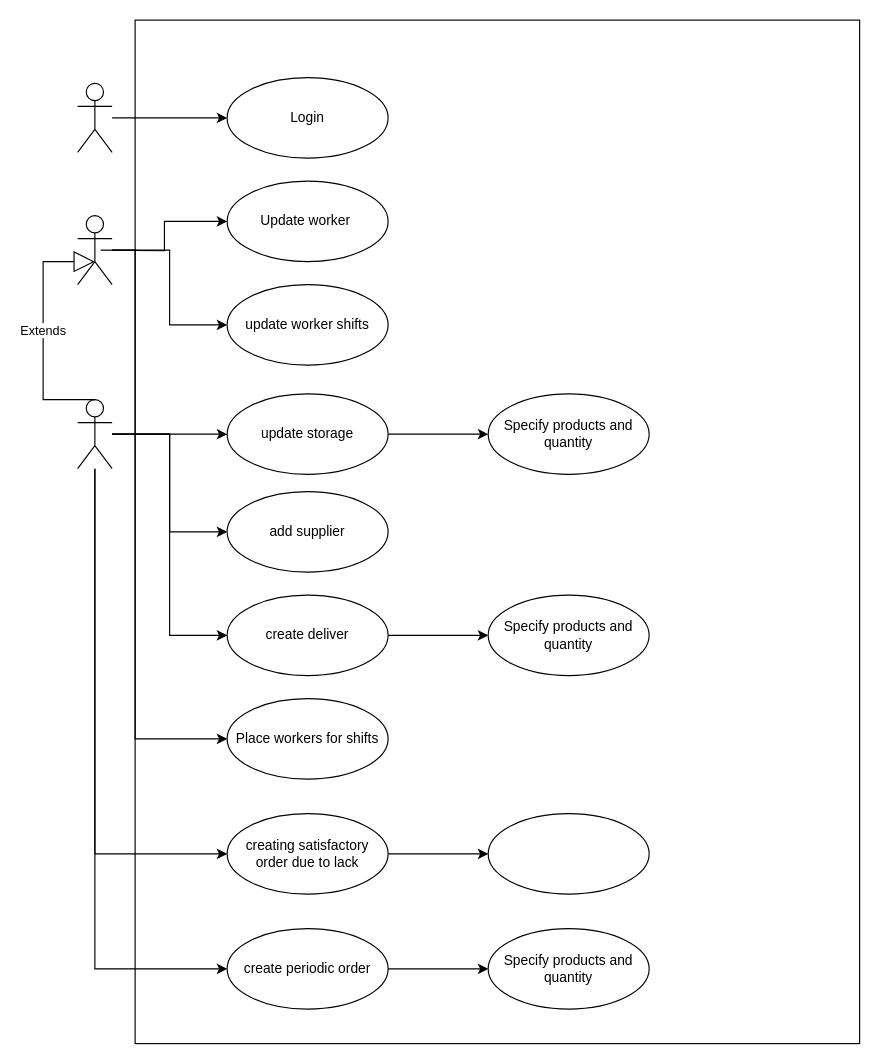
Image size: 880x1064. Some labels were removed from this diagram. Here are the shapes that lost their labels. From the top down, the centre of each, then its label:
At [94,117]: "User".
At [94,249]: "Meneger".
At [94,433]: "Worker".
At [568,853]: "creating new order".
